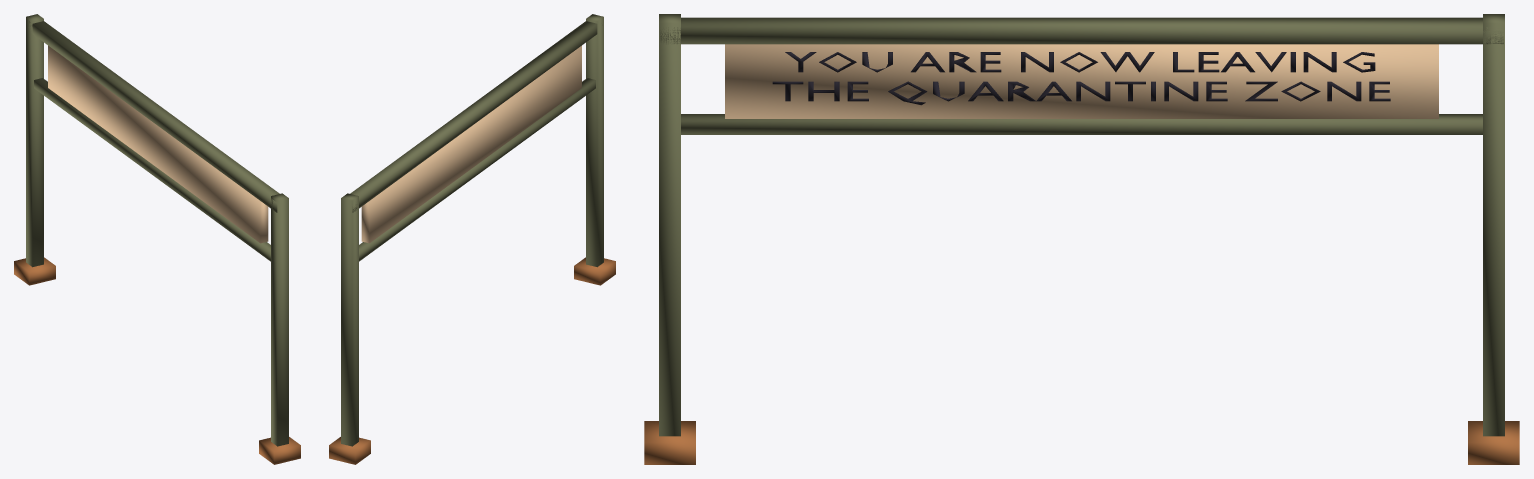
3 renders of one model, left to right at view 1: azimuth 30°, elevation 25°; view 2: azimuth 150°, elevation 25°; view 3: azimuth 270°, elevation 25°, orthographic. The views are drawn at different scales.
Parts seen in each view (by area): view 1: body; view 2: body; view 3: body.
Boxes of the visible parts, x1,y1,x2,y2 form: body: (14,14,300,464); body: (329,14,615,464); body: (644,14,1519,464).
Bounding box in the file's own units: 0.7498 × 7 × 12.75.
